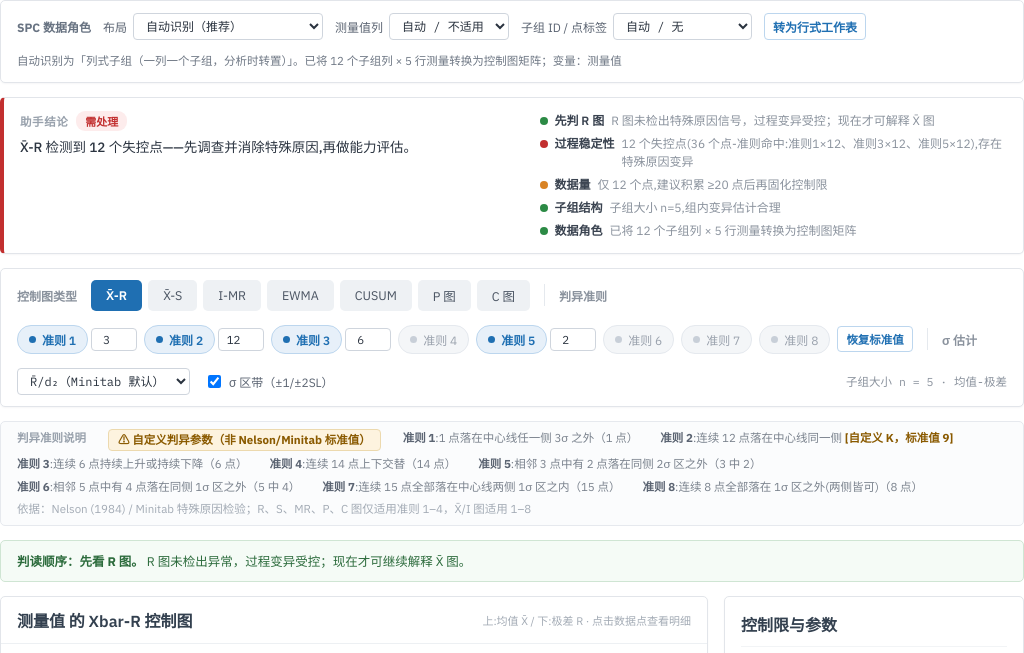
Scenario: SPC 页面端到端数据角色 › 12 列列式数据可从 SPC 页一键转置，原列名继续作为子组标签
Click the button "转为行式工作表": (815, 26) [764, 13, 866, 40]
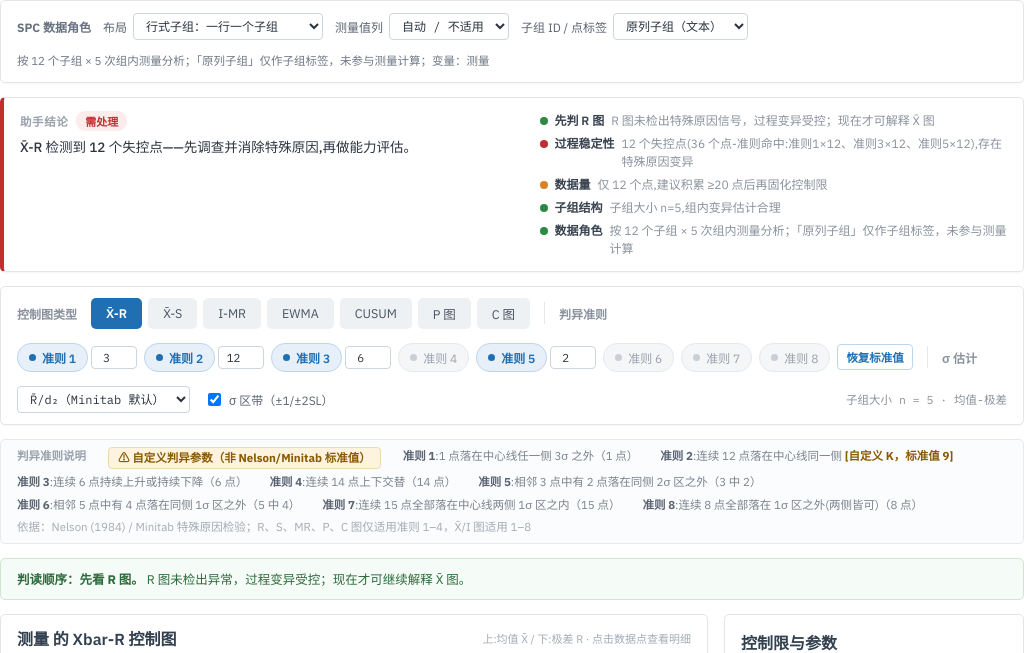
Expected: the text "「原列子组」仅作子组标签，未参与测量计算" is shown, [17, 53, 489, 68]
